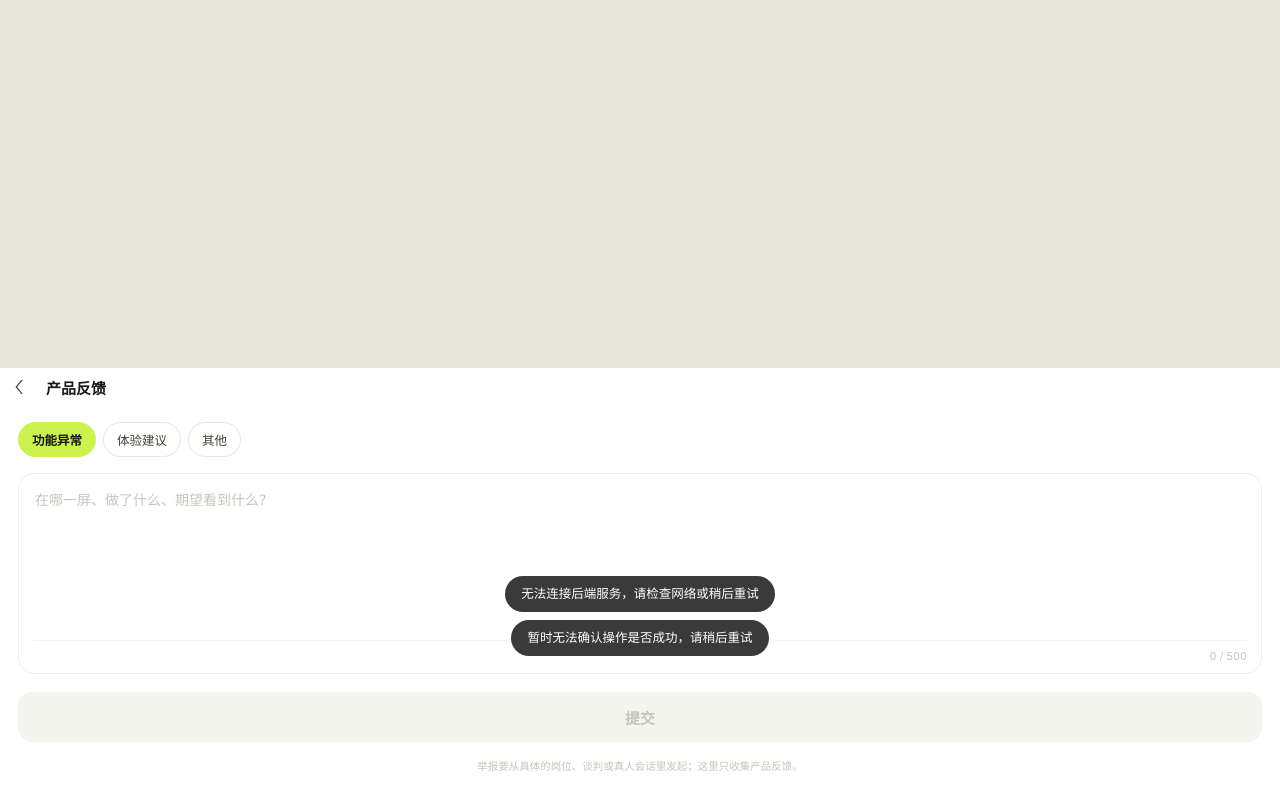
Test: 反馈 · Backend 产品反馈 › 429 限流给固定文案：无倒计时、无本地成功，输入保留可手动重试
(page scrolled)
Click the button "其他": (214, 440) [188,422,241,457]
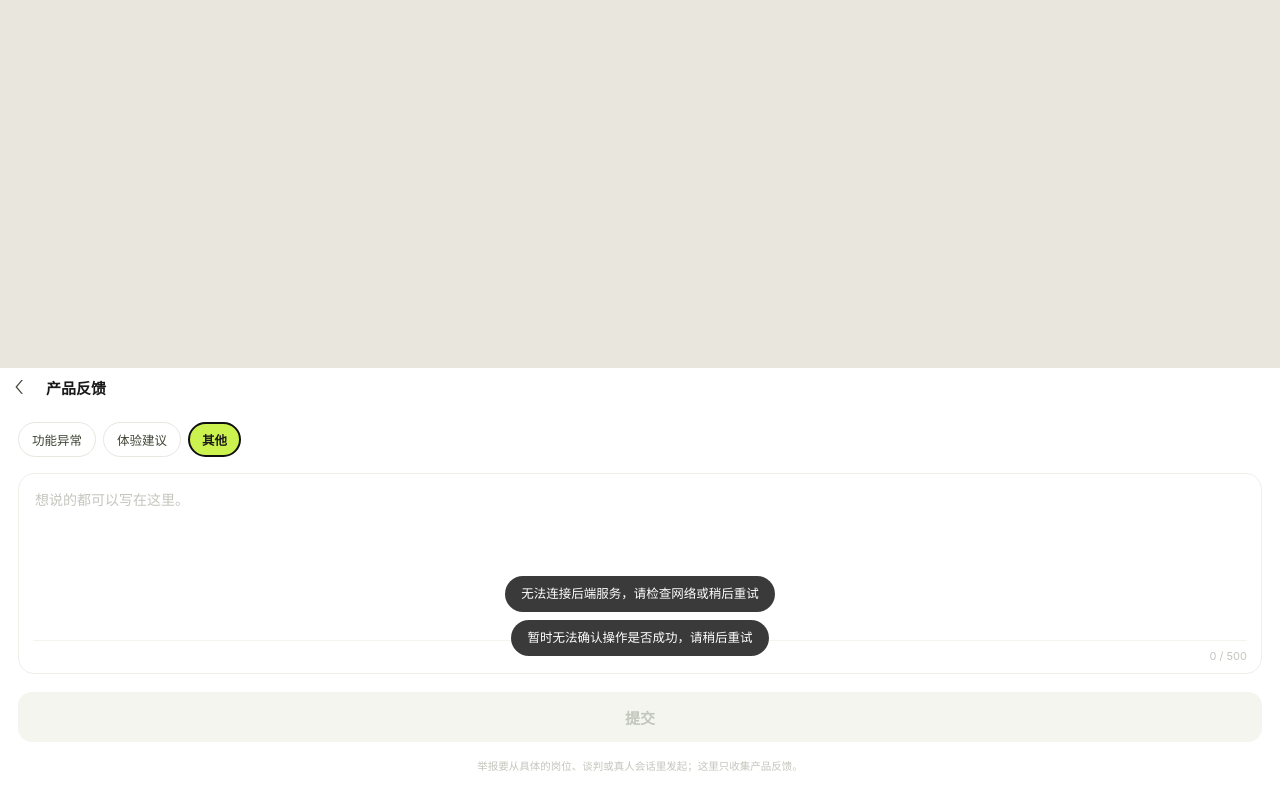
In the text box: (640, 561) [33,486,1247,636], type "想说的都可以写在这里"
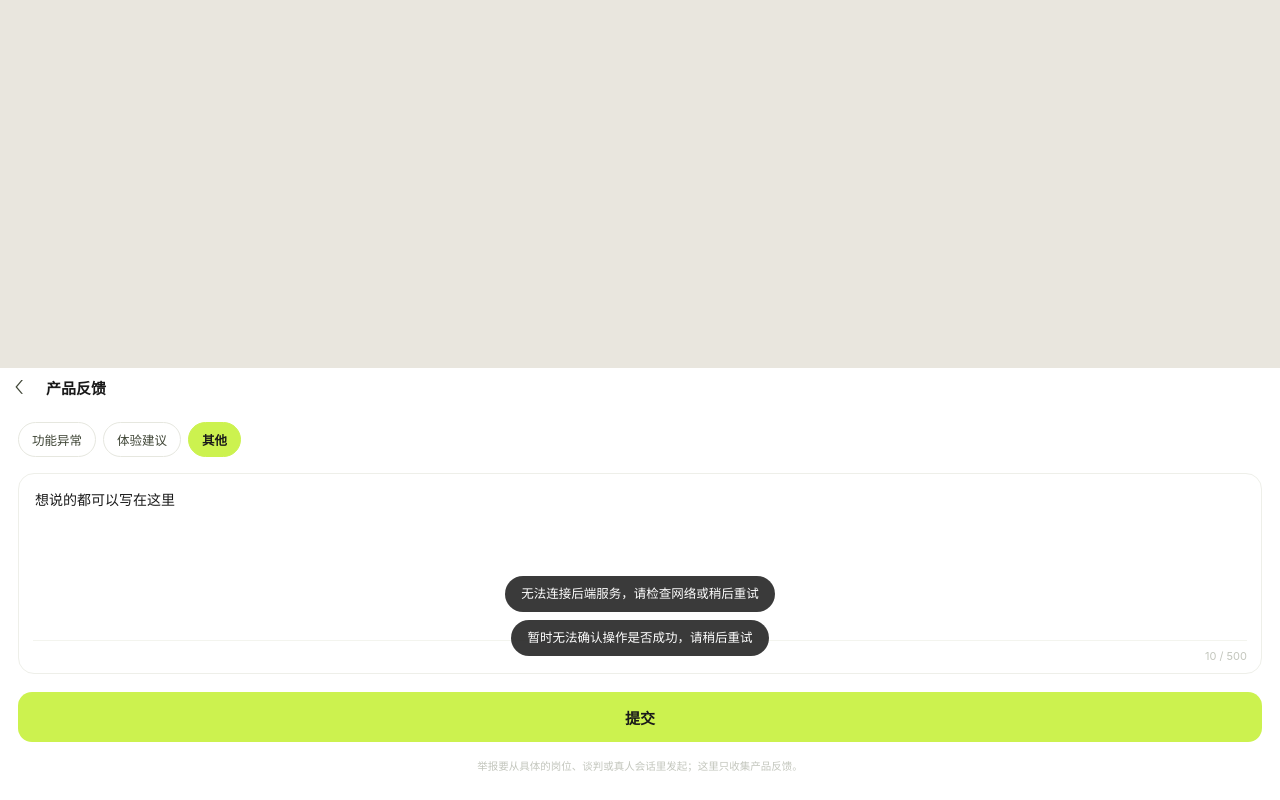
Click the button "提交": (640, 717) [18,692,1262,742]
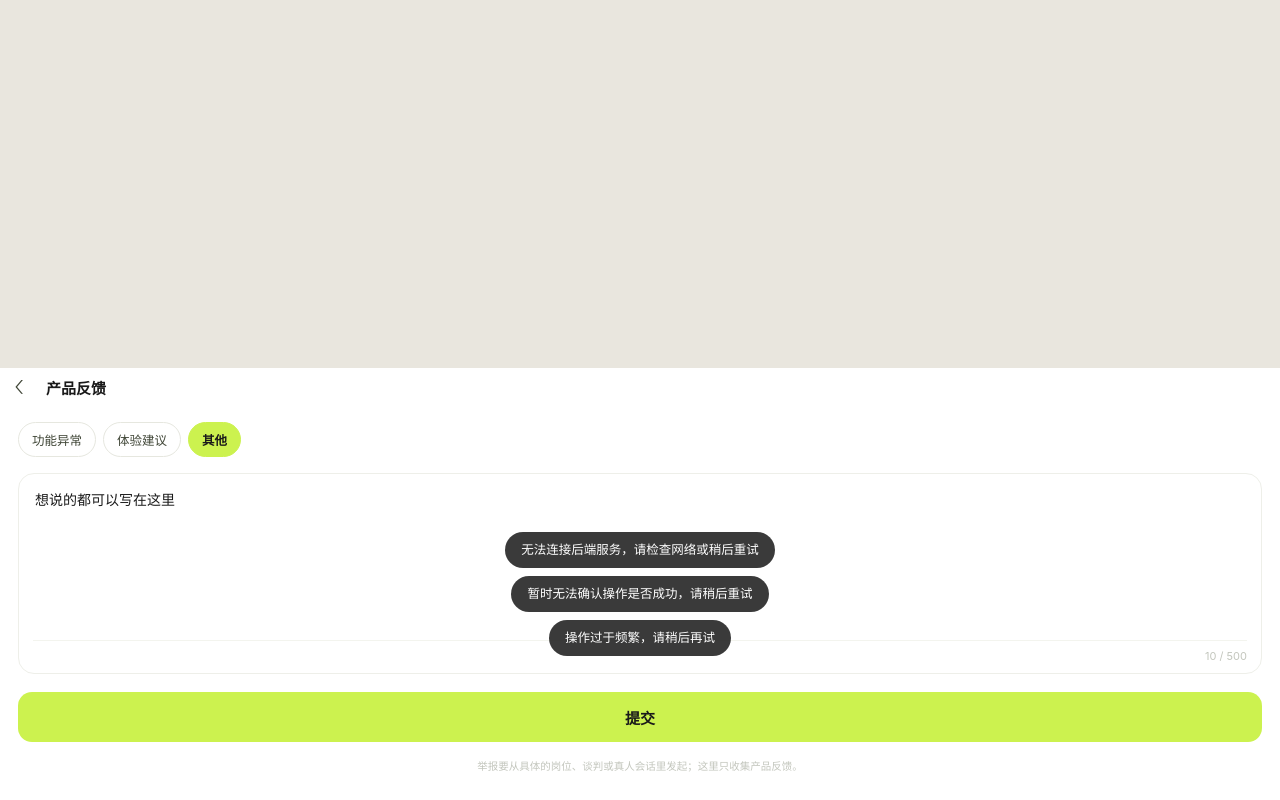
Now the text "操作过于频繁，请稍后再试" is shown, box [549,620,731,656]
